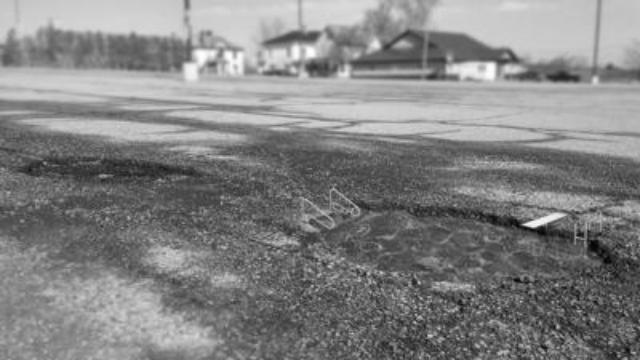Pothole: (286, 172, 632, 320), (12, 123, 228, 203)
